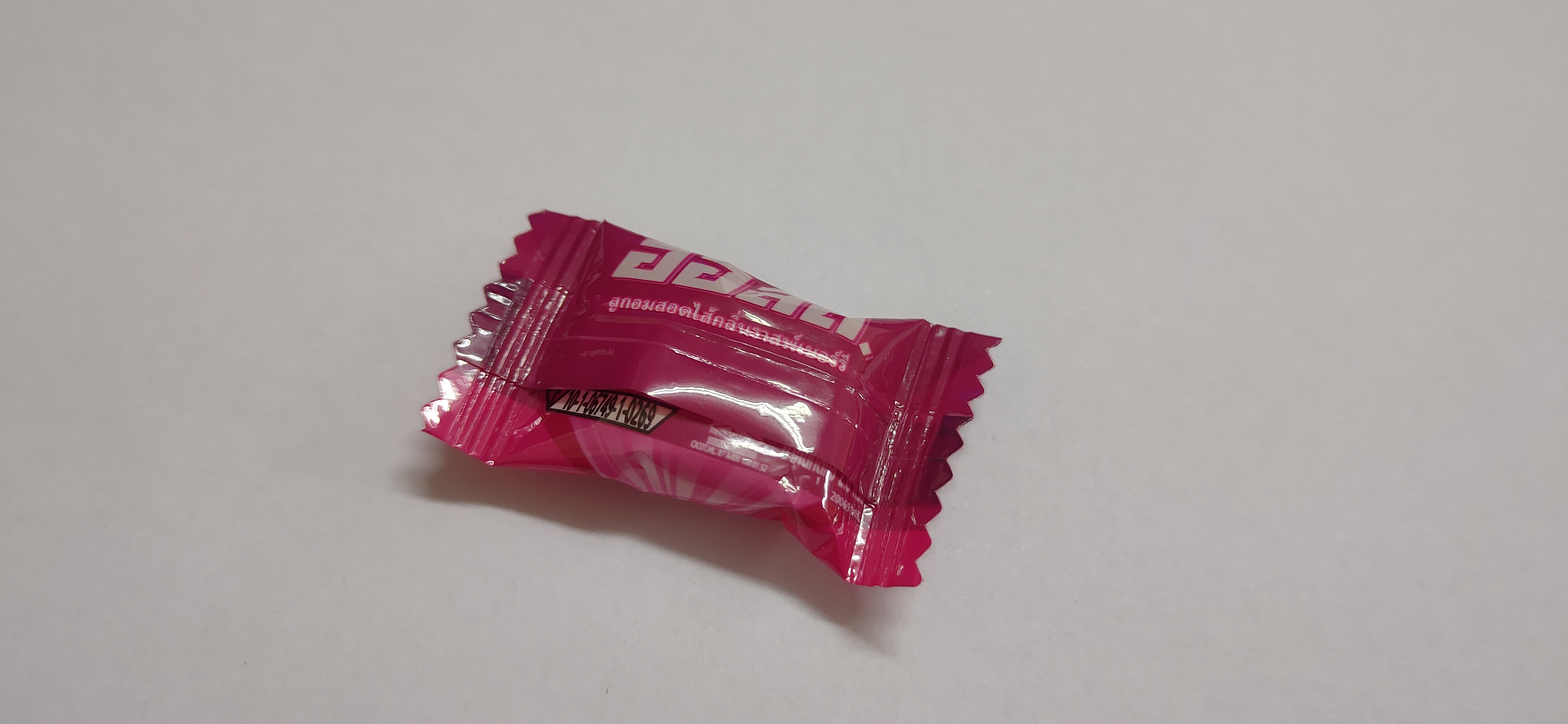plastic: (412, 198, 1027, 628)
